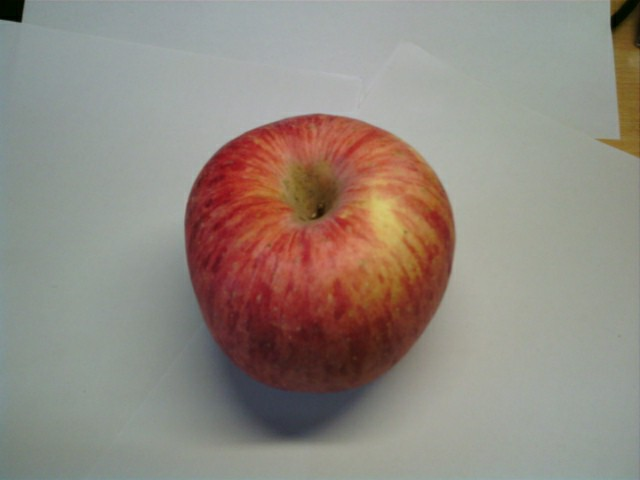normal_apple: (185, 115, 456, 395)
